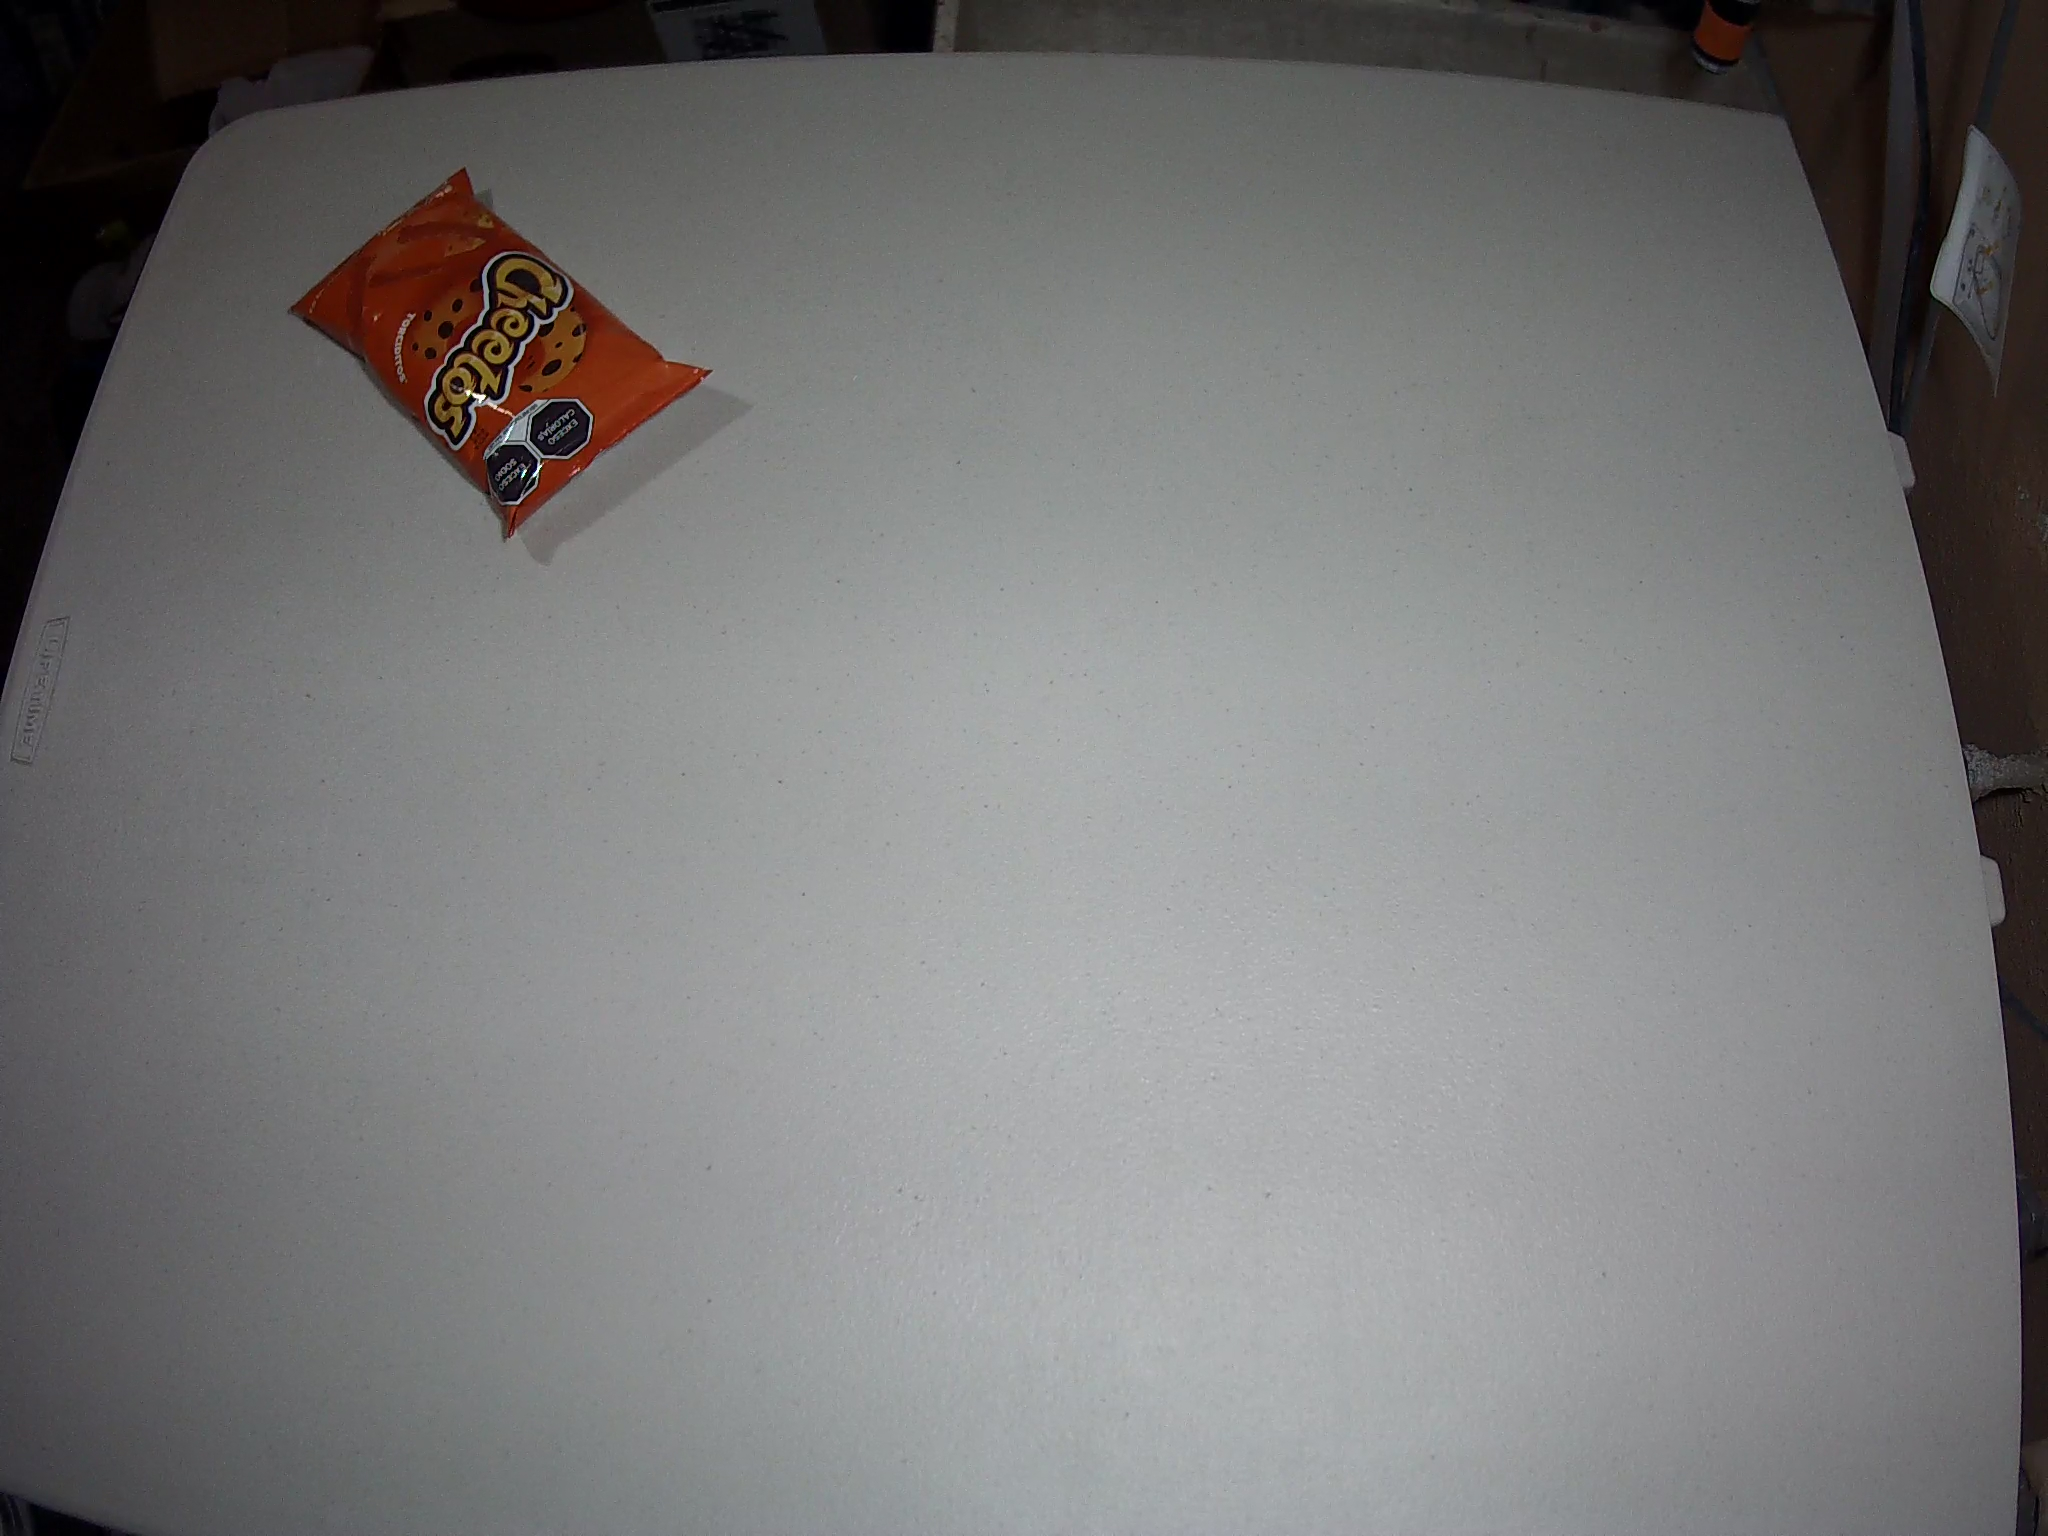CheetosTorciditos_55_F: (285, 165, 718, 541)
